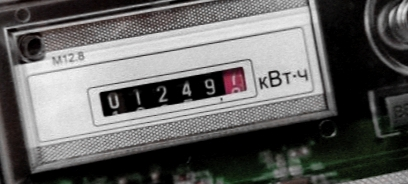0: (104, 90, 119, 111)
1: (128, 87, 141, 107)
2: (152, 83, 168, 105)
4: (177, 79, 190, 99)
7: (224, 68, 238, 88)
9: (200, 76, 215, 98)
screen: (76, 59, 256, 127)
